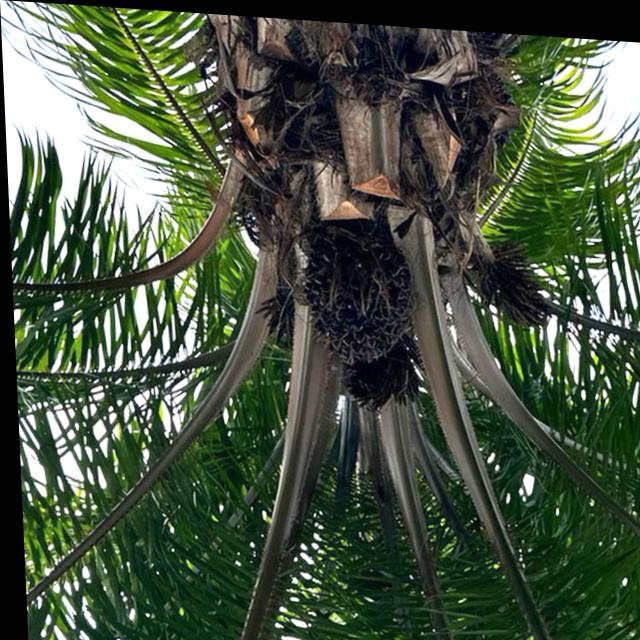ripe: (274, 212, 438, 374)
